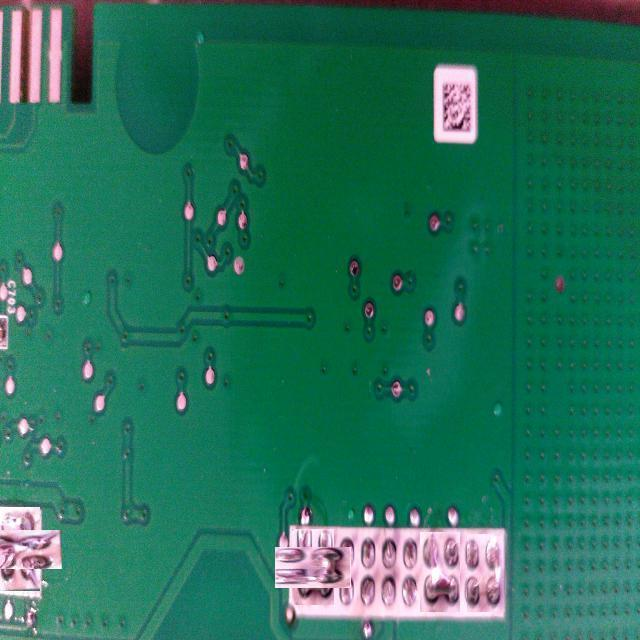Short_circuit: (284, 538, 342, 597), (420, 532, 460, 612), (0, 518, 51, 580), (467, 534, 505, 612)
